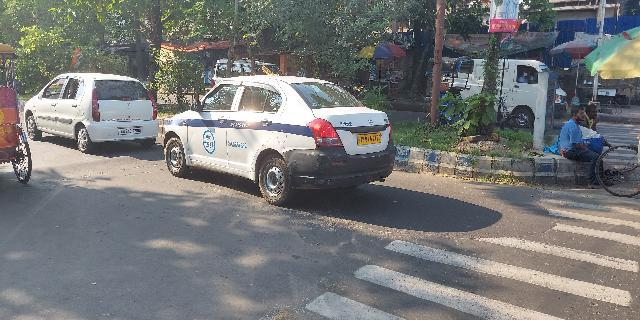Car: (161, 69, 398, 206), (20, 66, 160, 151)
Rickshaw: (1, 46, 43, 185)
